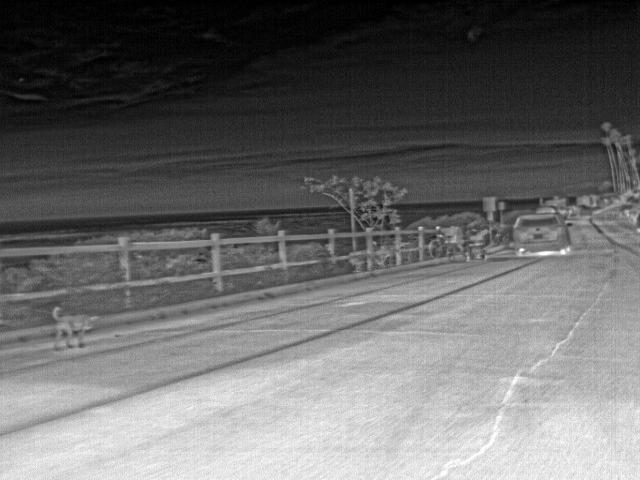car: (512, 212, 576, 255)
dog: (51, 304, 102, 352)
